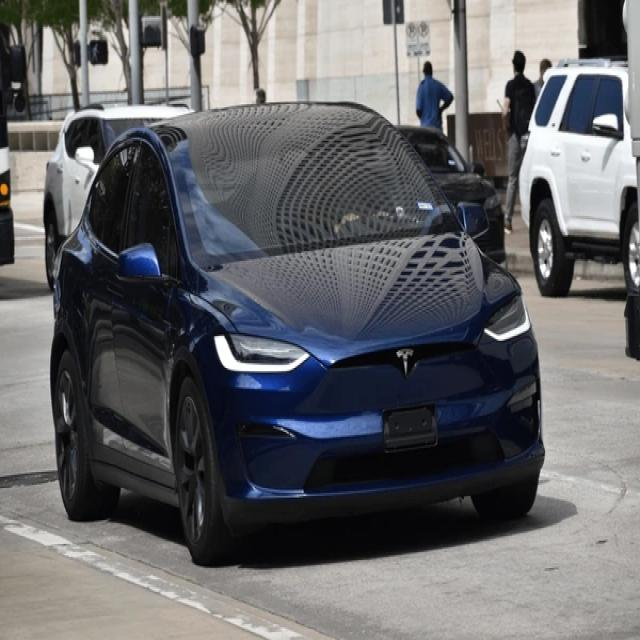tesla: (396, 343, 415, 380)
